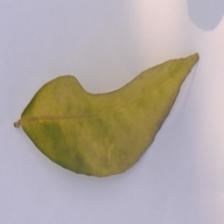greening: (13, 47, 203, 180)
